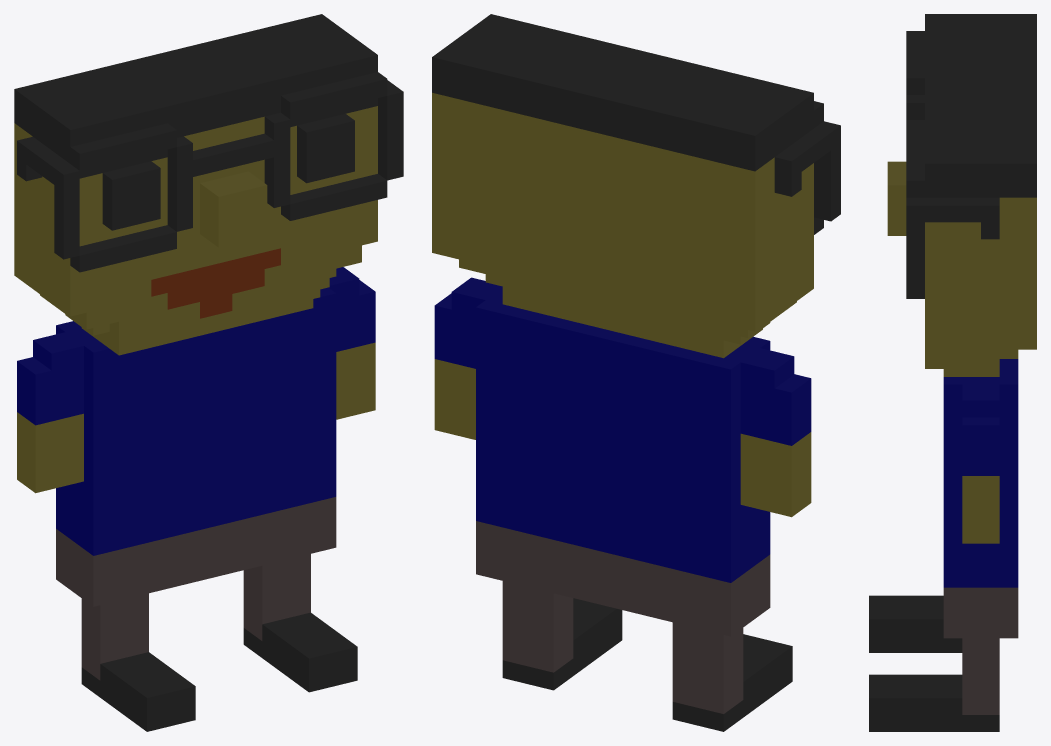
Rendered from cha_18.glb.
3 views of the same model, side by side, from view 1: azimuth 30°, elevation 25°; view 2: azimuth 150°, elevation 25°; view 3: azimuth 270°, elevation 25° (orthographic). The views are drawn at different scales.
Parts seen in each view (by area): view 1: VoxTransform.001; view 2: VoxTransform.001; view 3: VoxTransform.001.
Part boxes in pixels (x1,y1,x2,y2): VoxTransform.001: (14,14,403,731); VoxTransform.001: (432,14,840,731); VoxTransform.001: (869,14,1036,731).
Bounding box in the file's own units: 21 × 35 × 9.
